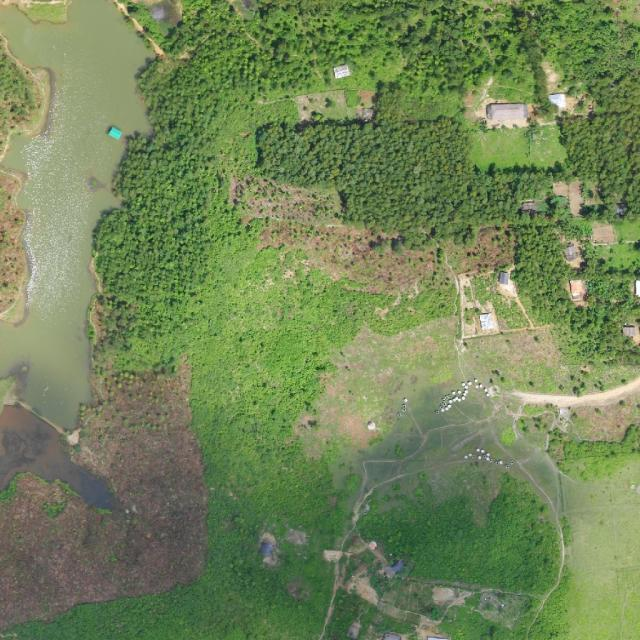building: (486, 102, 528, 122), (495, 265, 518, 299), (568, 278, 588, 302), (563, 242, 576, 262), (107, 126, 124, 141), (549, 94, 566, 109), (333, 65, 350, 79), (521, 200, 539, 213)
greenland: (268, 285, 486, 475), (359, 455, 571, 599), (561, 475, 640, 639), (459, 327, 640, 397), (0, 166, 28, 322)
